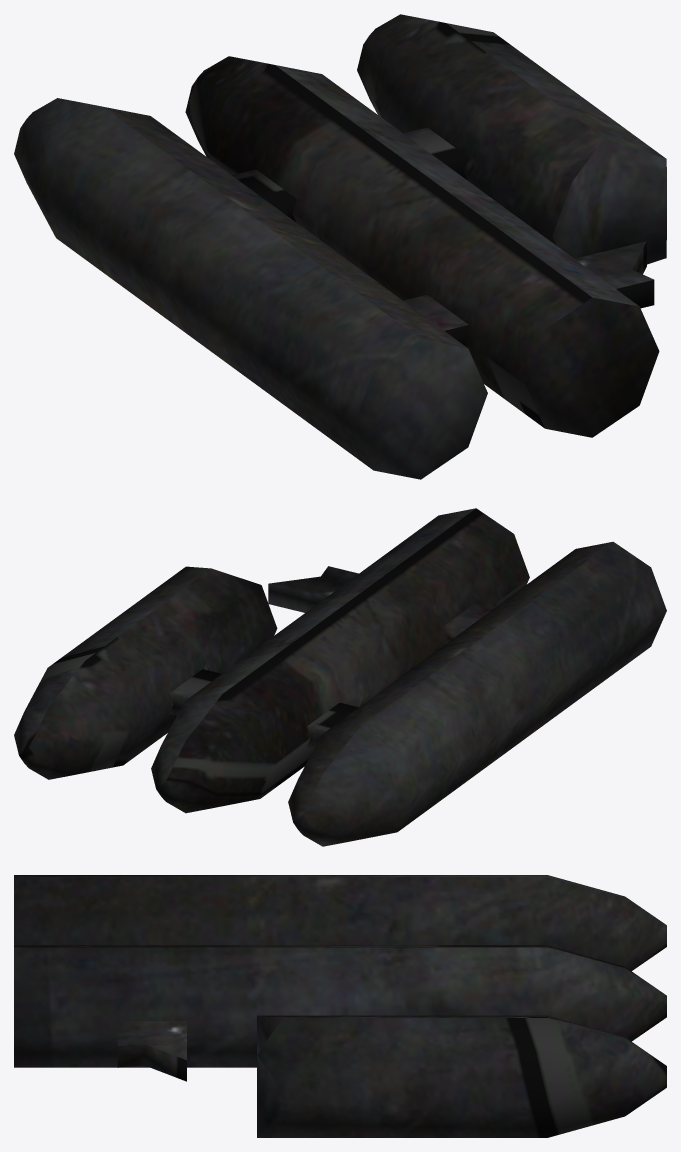
Rendered from spacejunk10.fbx.
3 renders of one model, top to bottom at view 1: azimuth 30°, elevation 25°; view 2: azimuth 150°, elevation 25°; view 3: azimuth 270°, elevation 25°, orthographic. The views are drawn at different scales.
Visible parts, largest first — view 1: PipelineFBX; view 2: PipelineFBX; view 3: PipelineFBX.
Boxes of the visible parts, bbox=[...] form: PipelineFBX: bbox=[14, 14, 666, 479]; PipelineFBX: bbox=[14, 508, 666, 846]; PipelineFBX: bbox=[14, 875, 666, 1137].
Size of the model in its own units: 35.28 by 9.92 by 49.74.
1 material, 1 textured.
